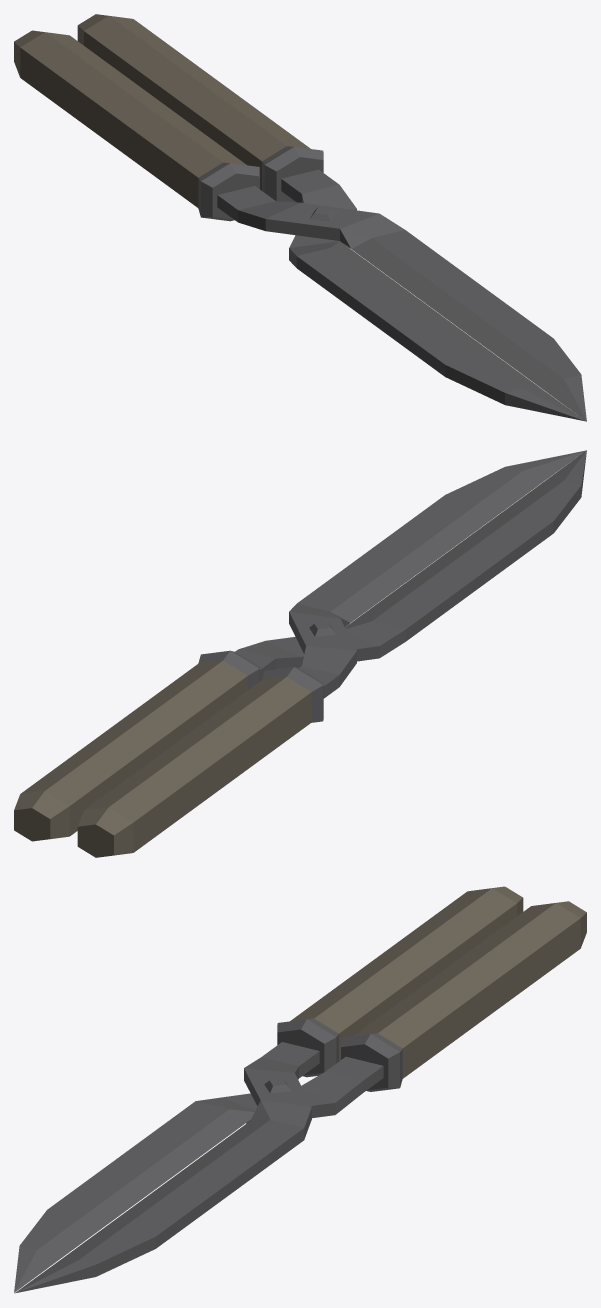
The model's file is Tool_Shears_Closed.fbx.
3 renders of one model, top to bottom at view 1: azimuth 30°, elevation 25°; view 2: azimuth 150°, elevation 25°; view 3: azimuth 330°, elevation 25°, orthographic.
Visible parts, largest first — view 1: Shears_Closed; view 2: Shears_Closed; view 3: Shears_Closed.
Boxes of the visible parts, box(x1,y1,x2,y2) form: Shears_Closed: box(14, 14, 586, 421); Shears_Closed: box(14, 450, 586, 857); Shears_Closed: box(14, 886, 586, 1293).
Size of the model in its own units: 12.49 by 92.28 by 5.73.
